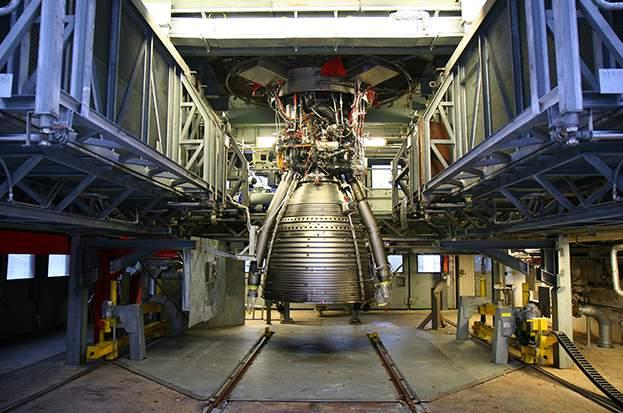thruster: (258, 177, 383, 308)
